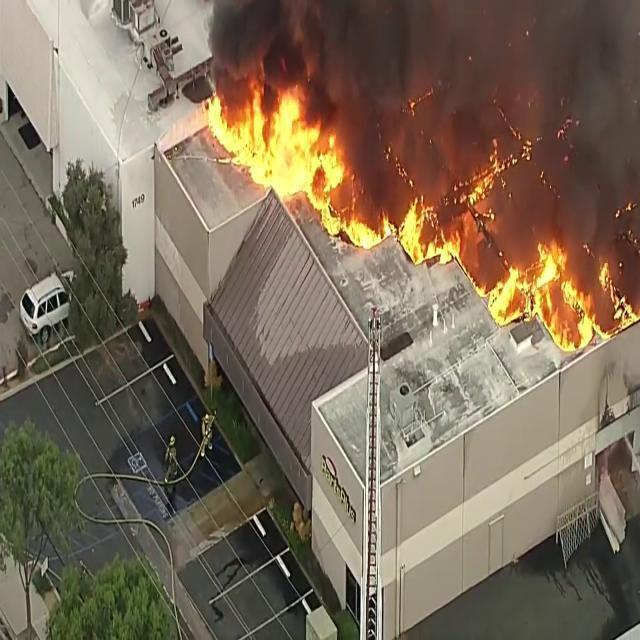Fire: (196, 68, 316, 202), (477, 261, 523, 323), (397, 190, 431, 260)
Smoke: (320, 0, 406, 156)
